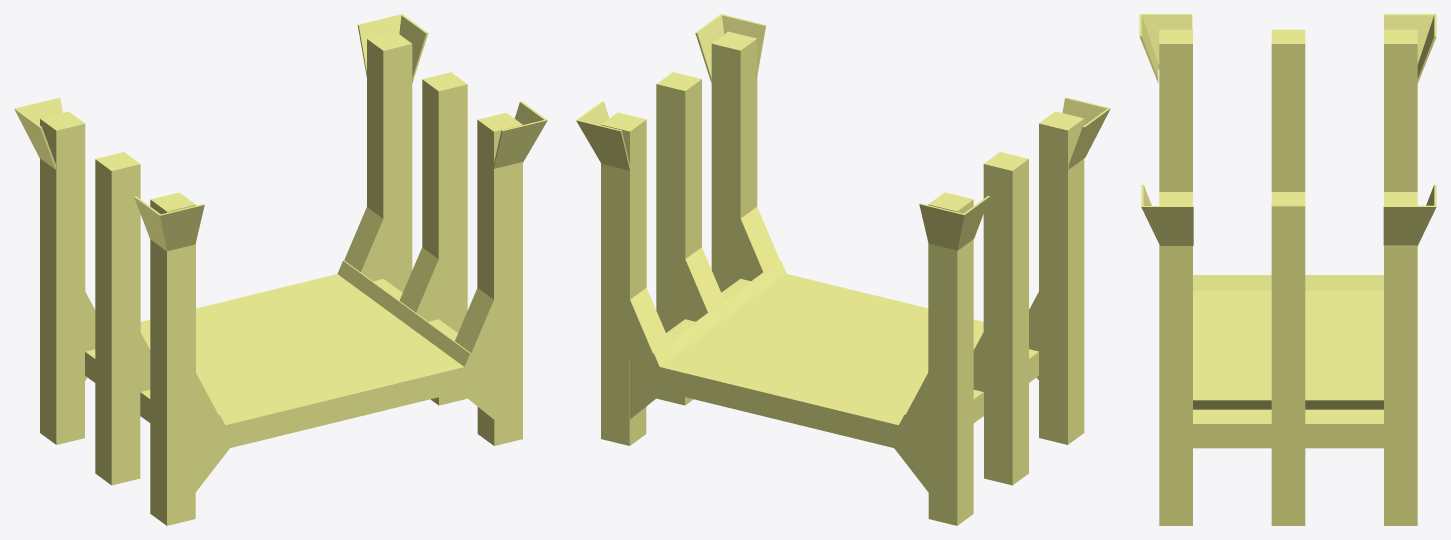
The model's file is Bolzengestell8&113D.dae.
3 renders of one model, left to right at view 1: azimuth 30°, elevation 25°; view 2: azimuth 150°, elevation 25°; view 3: azimuth 270°, elevation 25°, orthographic.
Visible parts, largest first — view 1: node0; view 2: node0; view 3: node0.
Part boxes in pixels (x1=…): node0: x1=14, y1=14, x2=547, y2=525; node0: x1=576, y1=14, x2=1110, y2=525; node0: x1=1139, y1=14, x2=1436, y2=525.
Bounding box in the file's own units: 1.7 × 1.1 × 1.34.
